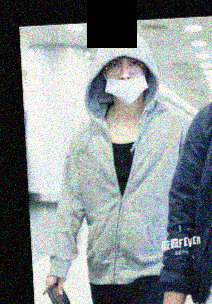mask_weared_incorrect: (101, 56, 149, 104)
